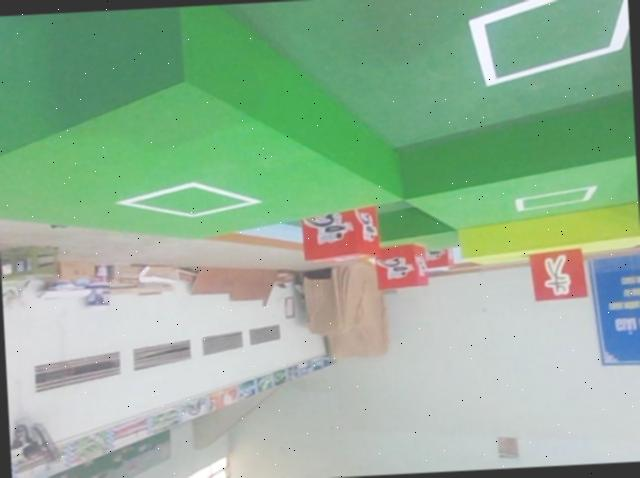R1: (296, 202, 381, 270), (377, 241, 433, 294)
R2 Fake: (529, 242, 590, 305)
